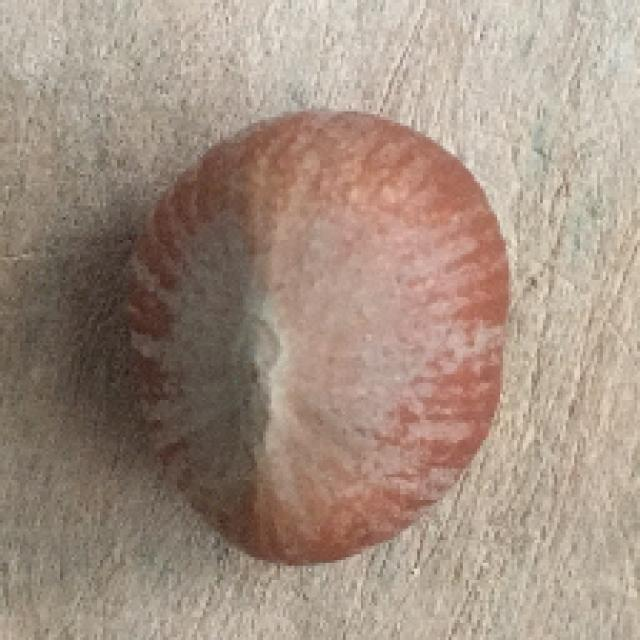QualityHazelnut: (122, 105, 517, 570)
